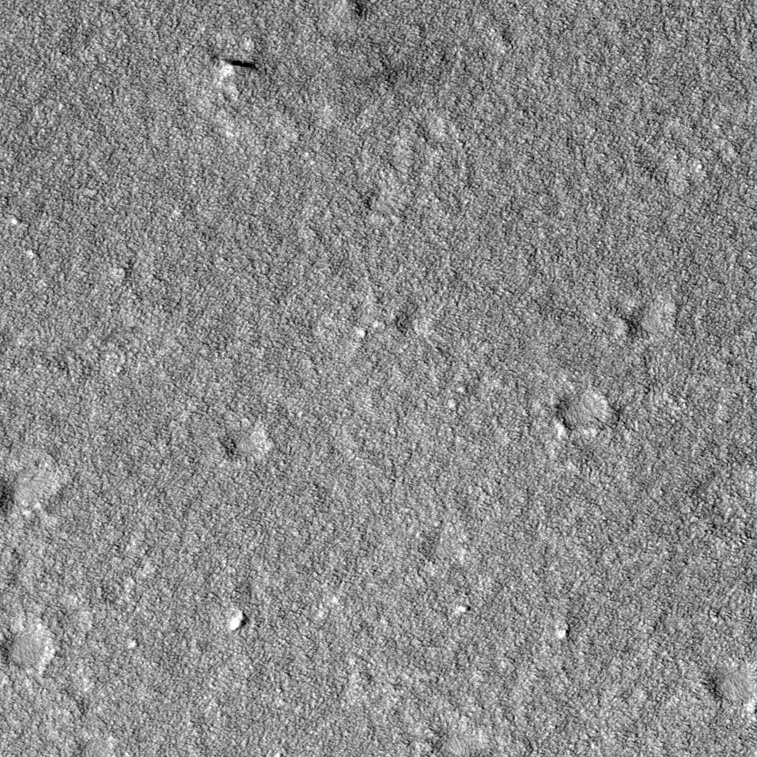dust_devil: (208, 52, 261, 84)
